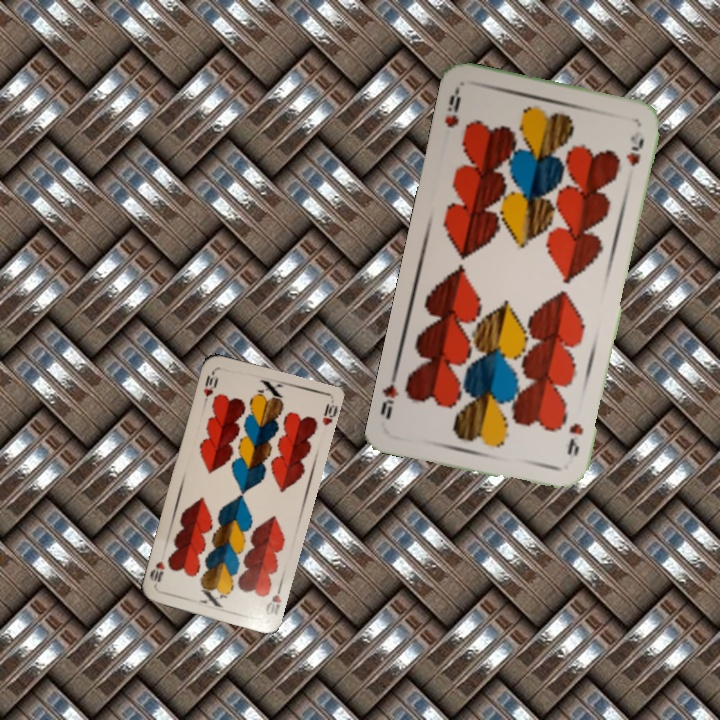H10: (199, 366, 221, 406), (261, 580, 284, 618)
H9: (440, 85, 463, 130), (563, 419, 586, 460)
